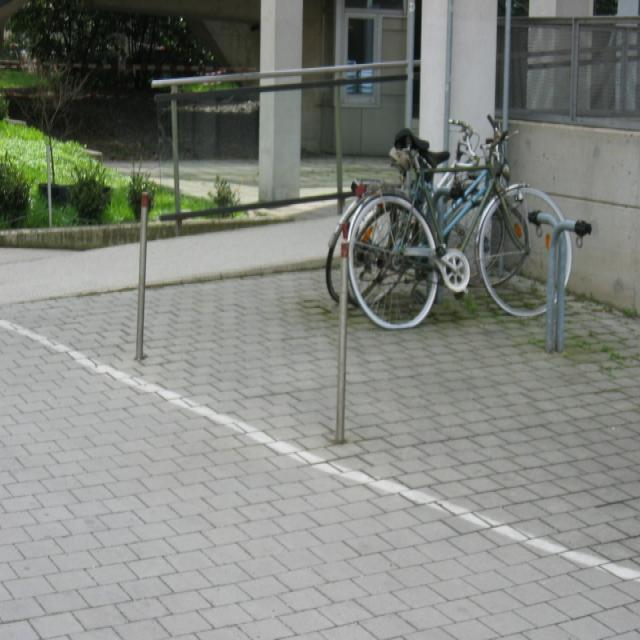bicycle: (336, 117, 578, 320)
